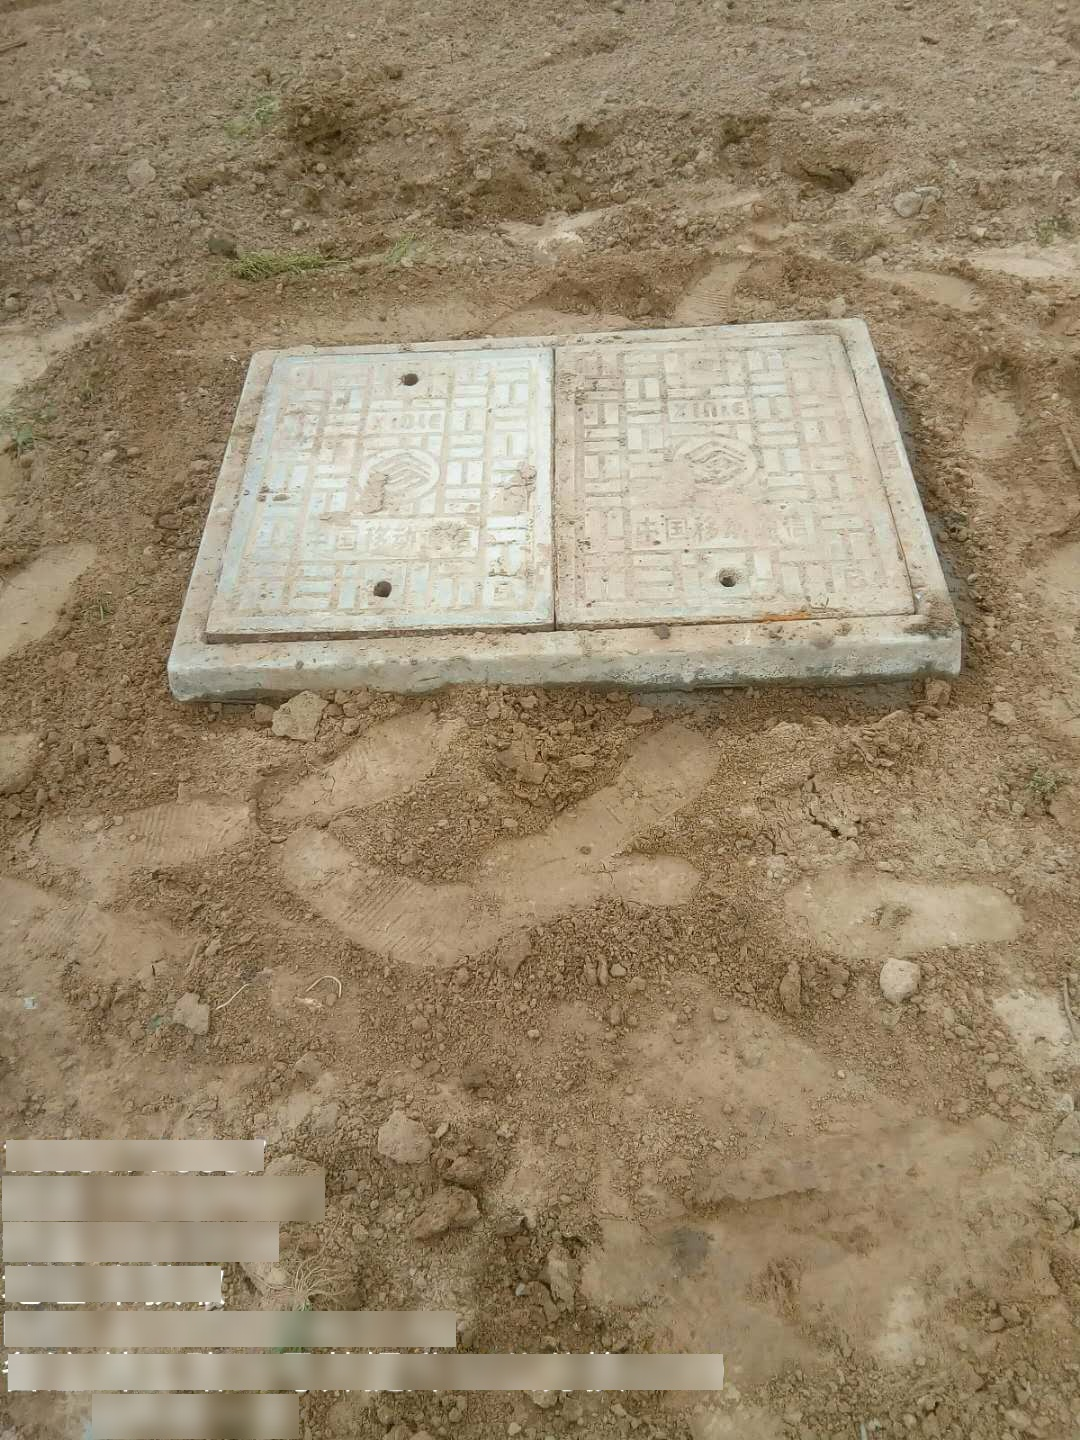good: (169, 317, 963, 658)
